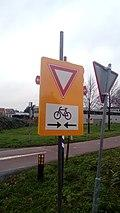Give Way: (44, 61, 78, 102)
